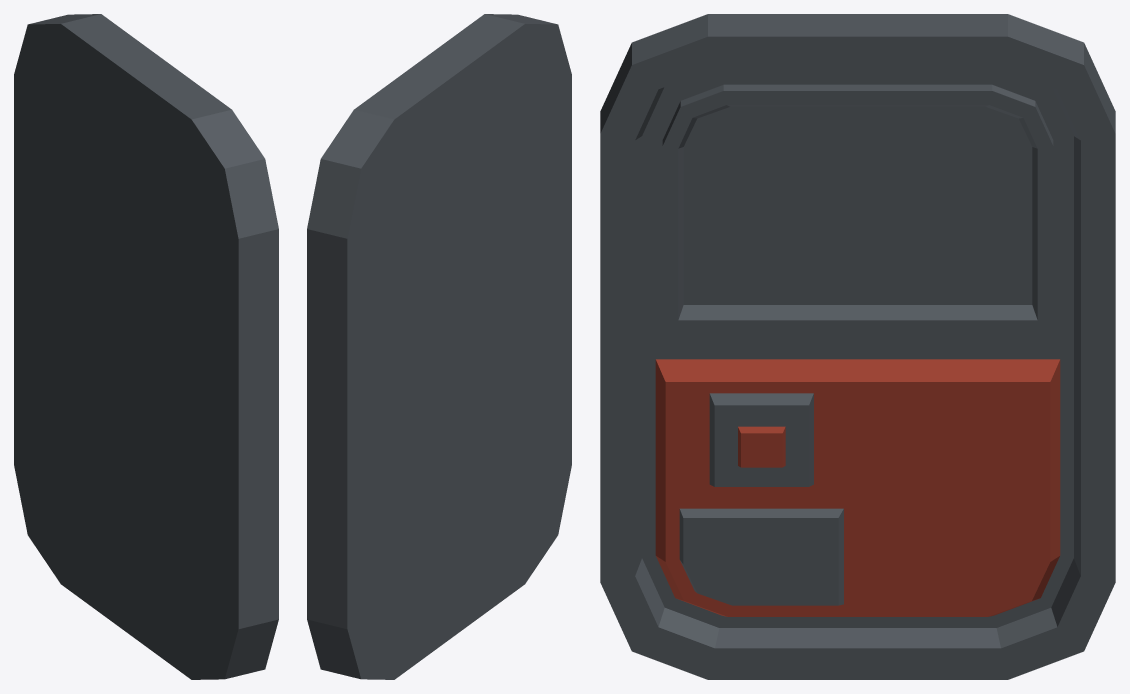
File: Fighter_04_Detail_2_Red.fbx
The picture shows the model from 3 angles, left to right: view 1: azimuth 30°, elevation 25°; view 2: azimuth 150°, elevation 25°; view 3: azimuth 270°, elevation 25°; orthographic projection. The views are drawn at different scales.
Parts seen in each view (by area): view 1: Fighter_04_Detail_2_Red; view 2: Fighter_04_Detail_2_Red; view 3: Fighter_04_Detail_2_Red.
Boxes of the visible parts, left/top/right/bottom form: Fighter_04_Detail_2_Red: left=14, top=14, right=278, bottom=679; Fighter_04_Detail_2_Red: left=307, top=14, right=571, bottom=679; Fighter_04_Detail_2_Red: left=600, top=14, right=1115, bottom=679.
Bounding box in the file's own units: 18.34 × 159 × 115.
Materials: 2 (2 with a texture image).
